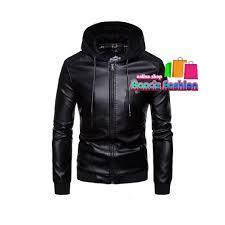jacket: (52, 21, 174, 197)
